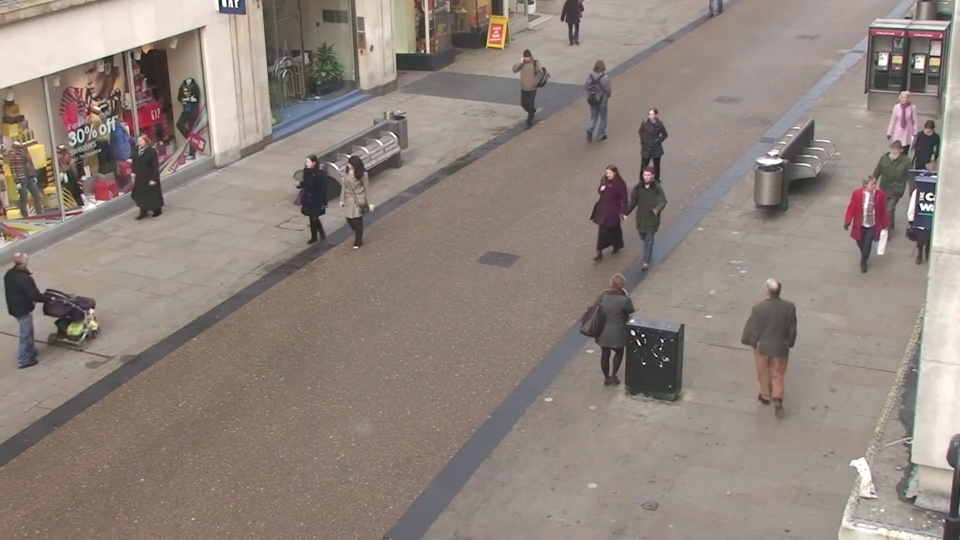pedestrian: (10, 240, 71, 367), (746, 262, 795, 397), (597, 265, 641, 401), (840, 173, 886, 285), (867, 143, 912, 248), (896, 119, 942, 219), (120, 134, 162, 232), (288, 154, 327, 259), (329, 155, 368, 260), (626, 164, 662, 274), (877, 92, 919, 185), (588, 161, 622, 270), (632, 107, 662, 201), (589, 54, 615, 133), (510, 48, 536, 125)
